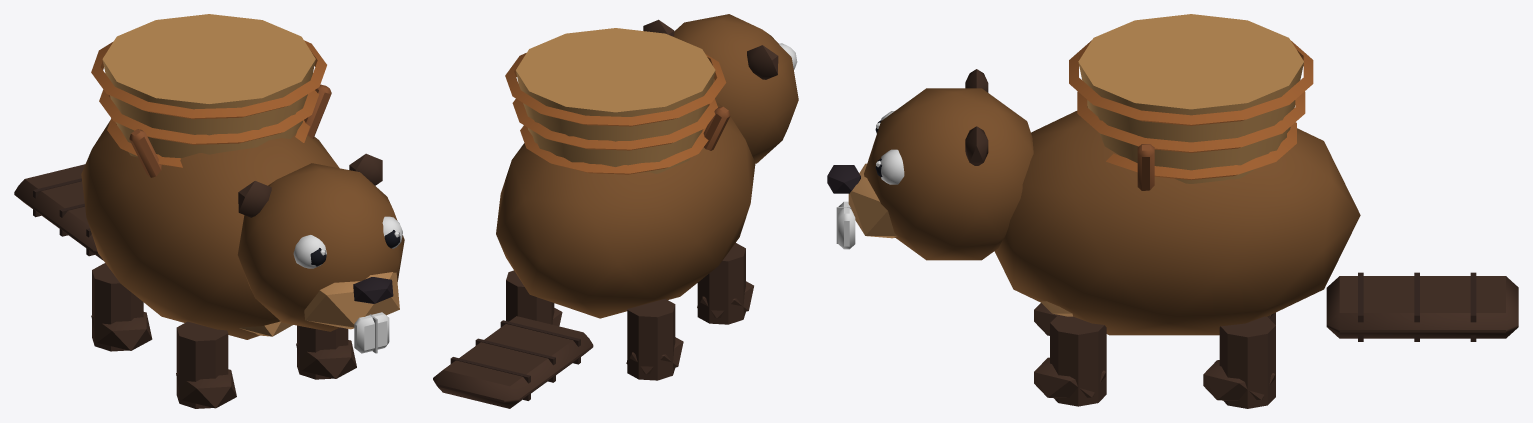
The model's file is comp_biber.glb.
The picture shows the model from 3 angles, left to right: view 1: azimuth 30°, elevation 25°; view 2: azimuth 150°, elevation 25°; view 3: azimuth 270°, elevation 25°; orthographic projection. The views are drawn at different scales.
Parts seen in each view (by area): view 1: body, head, leg_fl, leg_bl, tail, leg_fr; view 2: body, head, tail, leg_bl, leg_fl, leg_br; view 3: body, head, tail, leg_fr, leg_br.
Part boxes in pixels (x1,y1,x2,y2): body: (81,14,339,339); head: (237,153,404,353); leg_fl: (176,321,236,408); leg_bl: (91,263,152,351); tail: (14,164,103,260); leg_fr: (296,325,356,379); body: (496,28,755,318); head: (643,14,798,163); tail: (433,316,593,408); leg_bl: (626,298,683,380); leg_fl: (697,243,753,324); leg_br: (506,270,562,326); body: (994,14,1360,335); head: (827,69,1033,260); tail: (1326,272,1518,341); leg_fr: (1034,315,1106,406); leg_br: (1203,316,1275,408).
Bounding box in the file's own units: 0.4565 × 0.599 × 1.22.
